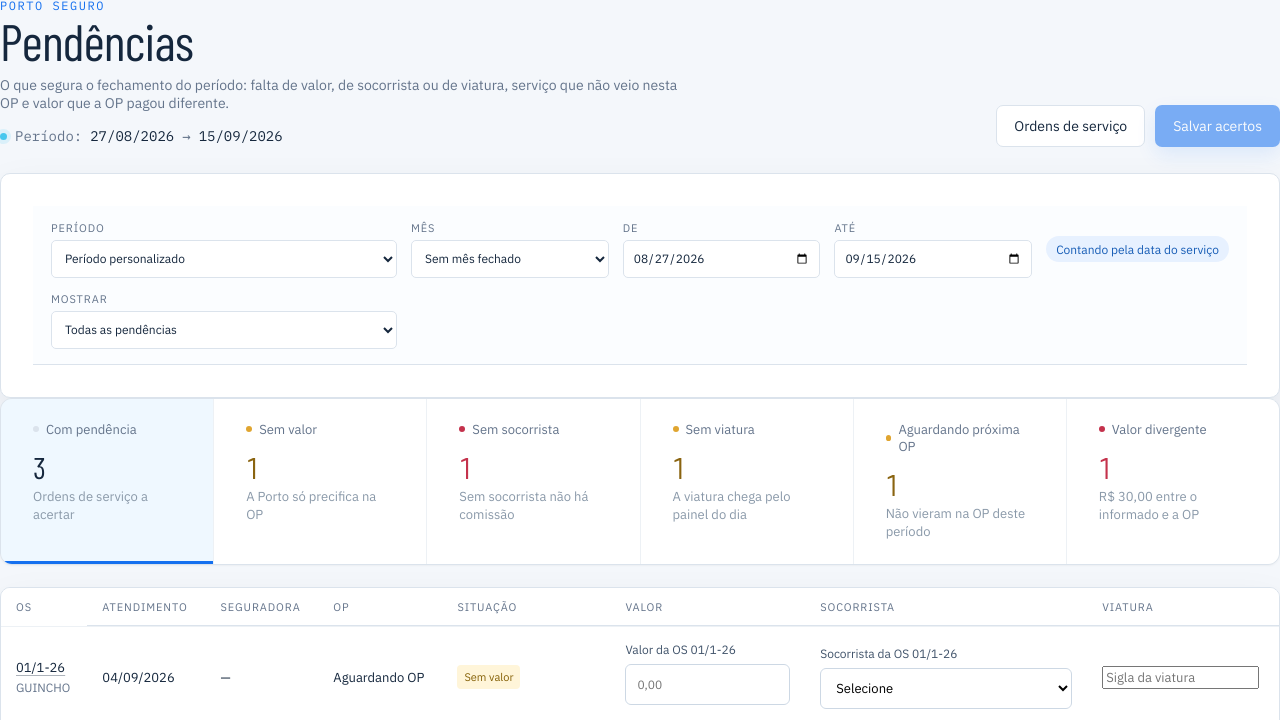
it: o filtro separa as duas situações novas
The image size is (1280, 720).
Click the dropdown labelled "Mostrar": {"x": 224, "y": 330} [51,311,397,349]
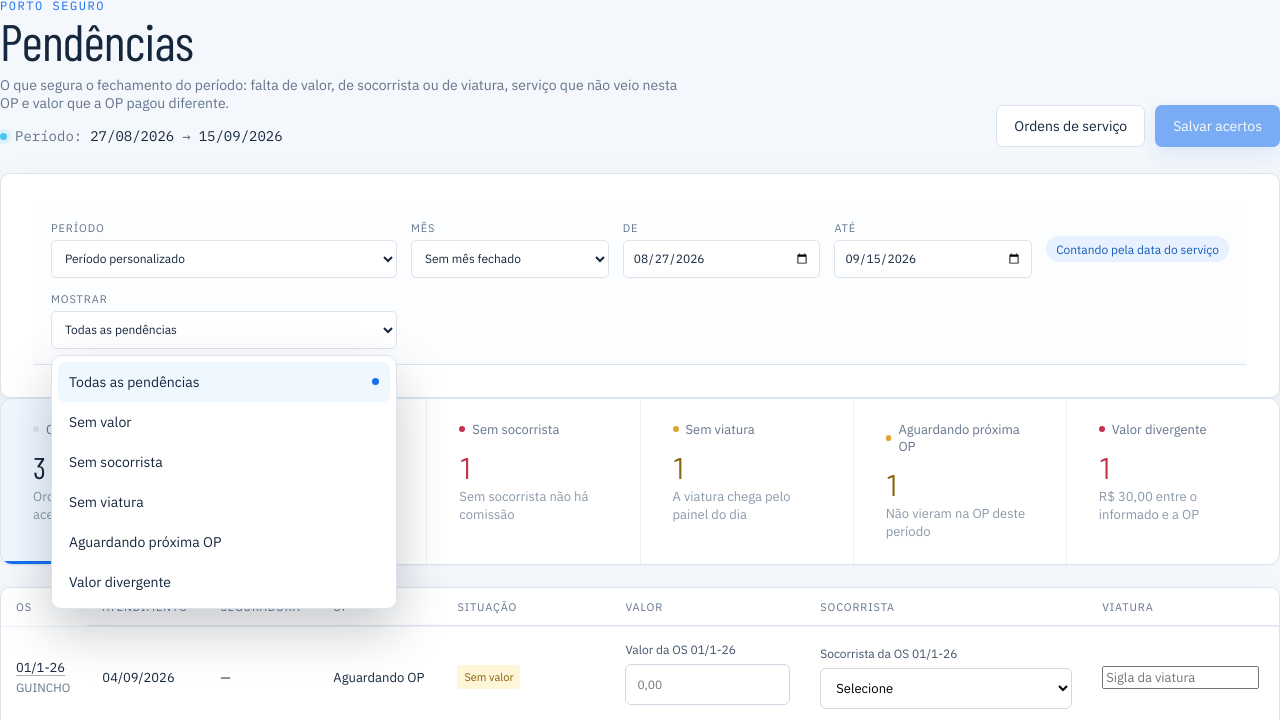
Click the option "Valor divergente": {"x": 120, "y": 582} [58,562,390,602]
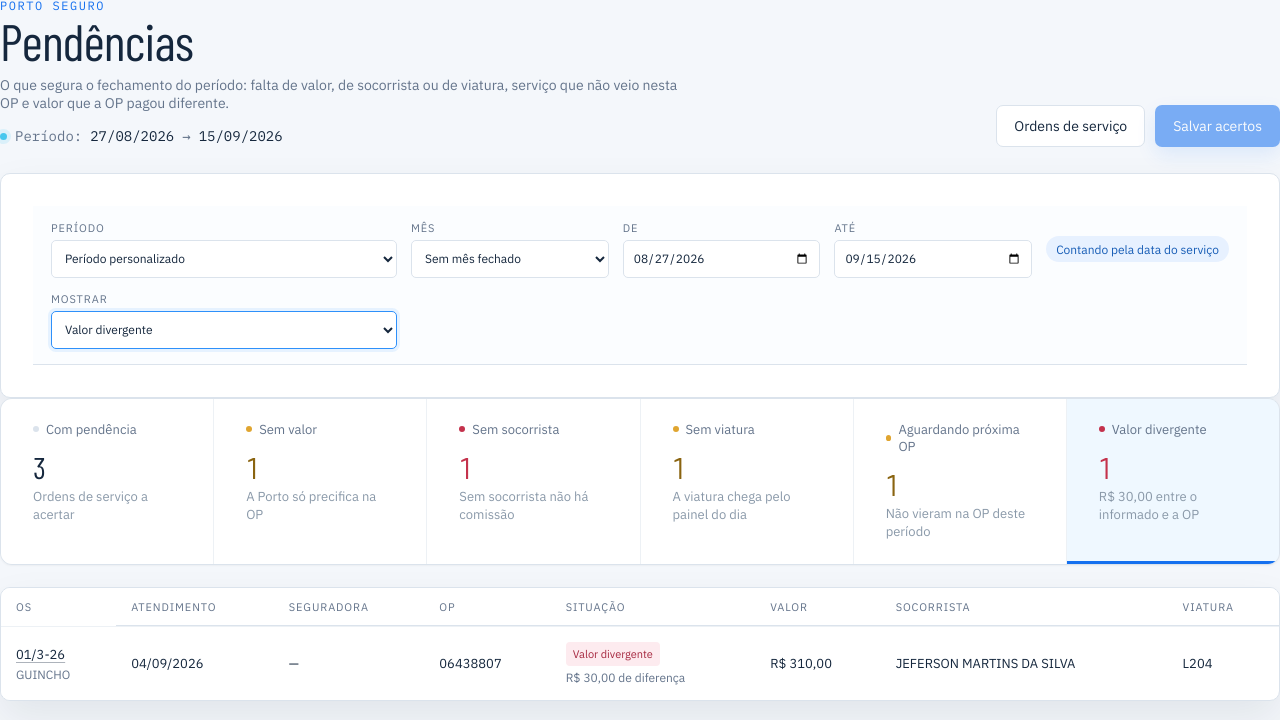
Check: the link "01/3-26" is shown, box [16,646,65,663]
Check: the link "01/1-26" is gone
Click the dropdown labelled "Mostrar": {"x": 224, "y": 330} [51,311,397,349]
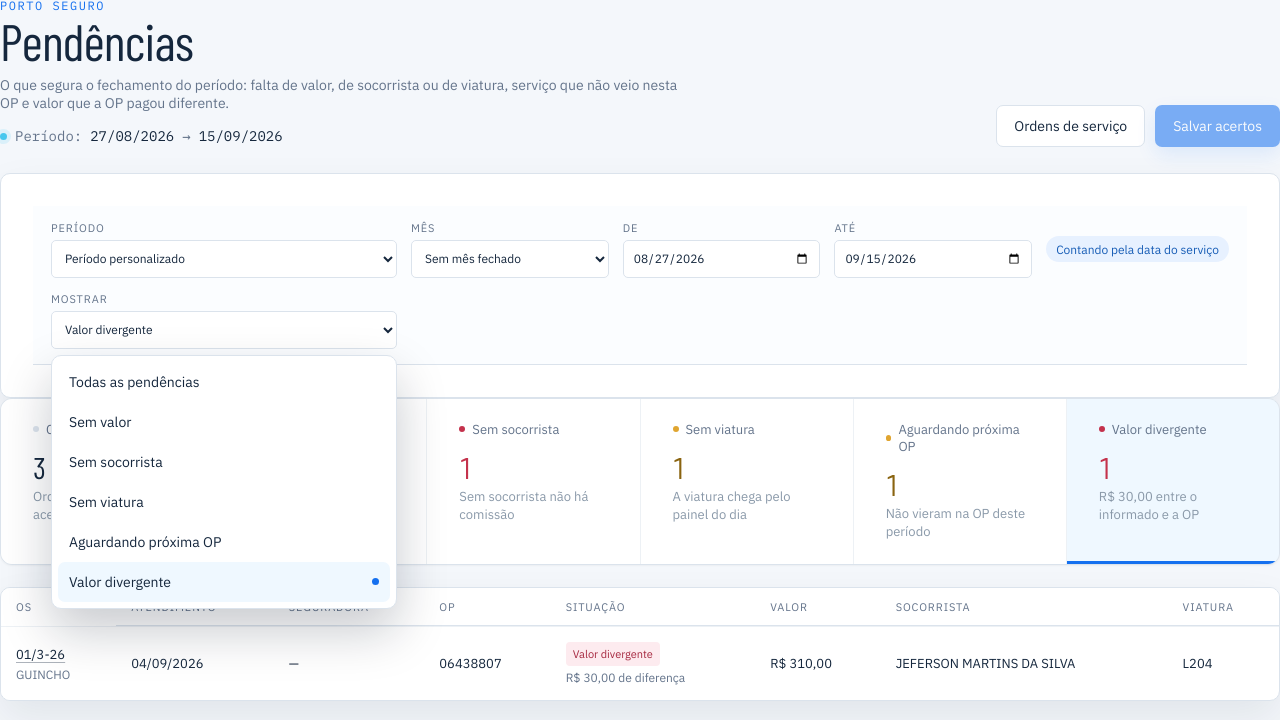
Click the option "Aguardando próxima OP": {"x": 224, "y": 542} [58,522,390,562]
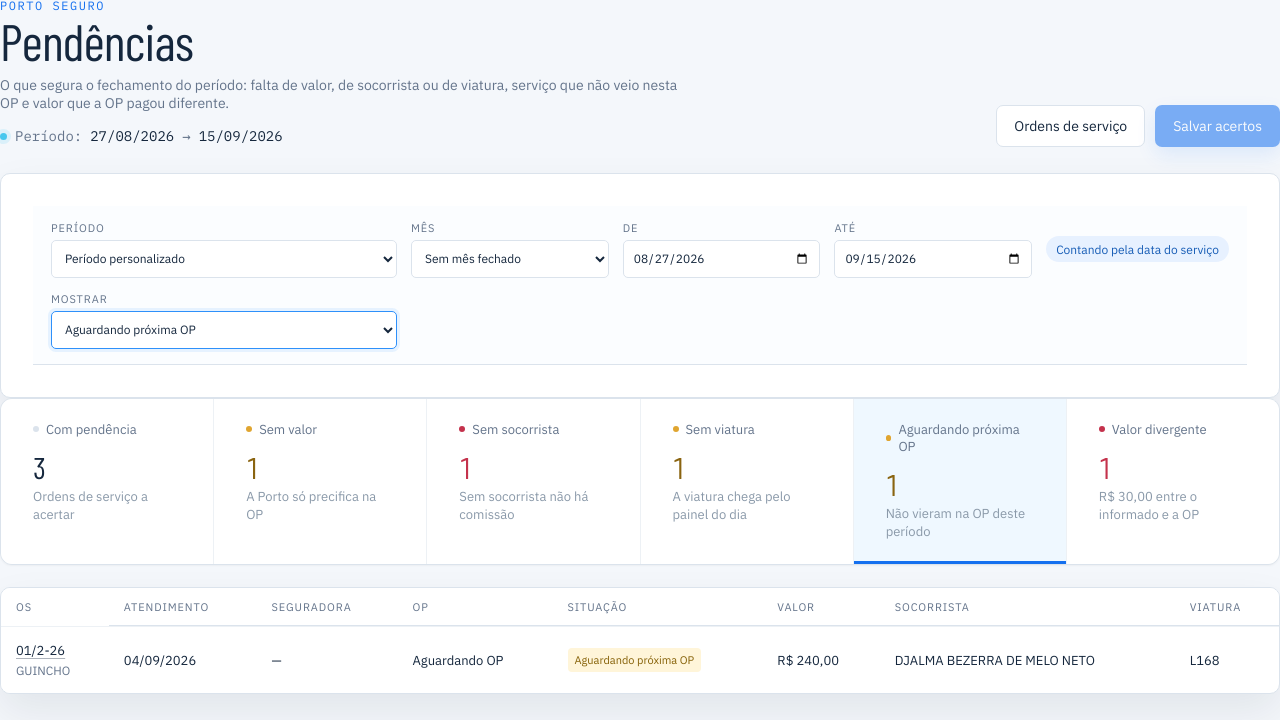
Check: the link "01/2-26" is shown, box [16,642,65,659]
Check: the link "01/3-26" is gone
